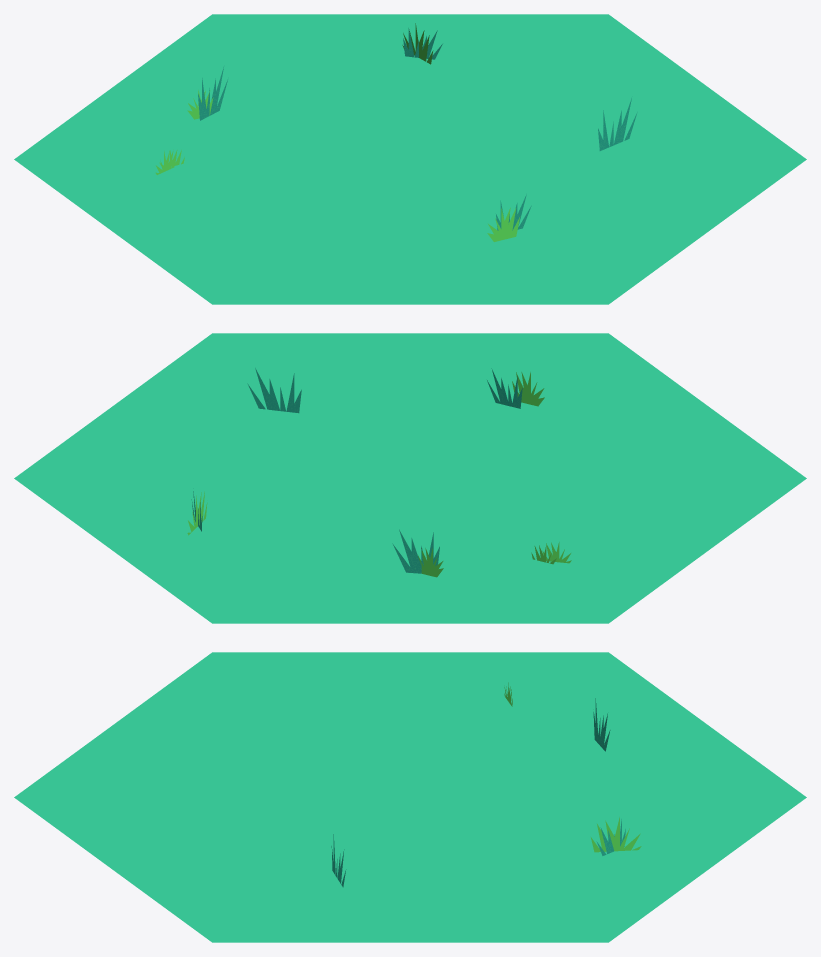
The model's file is Grassland_2D.fbx.
3 views of the same model, one above another, from view 1: azimuth 30°, elevation 25°; view 2: azimuth 150°, elevation 25°; view 3: azimuth 270°, elevation 25° (orthographic).
Visible parts, largest first — view 1: Group3, Group10, Group5, Group2; view 2: Group3, Group10, Group5, Group1; view 3: Group3, Group7.
Boxes of the visible parts, left/top/right/bottom form: Group3: left=14, top=14, right=806, bottom=304; Group10: left=598, top=98, right=637, bottom=150; Group5: left=198, top=67, right=227, bottom=120; Group2: left=487, top=207, right=520, bottom=241; Group3: left=14, top=333, right=806, bottom=623; Group10: left=247, top=368, right=301, bottom=413; Group5: left=392, top=529, right=439, bottom=573; Group1: left=487, top=368, right=522, bottom=408; Group3: left=14, top=652, right=806, bottom=942; Group7: left=591, top=817, right=641, bottom=852.
Size of the model in its own units: 1 by 0.0931 by 1.15.
